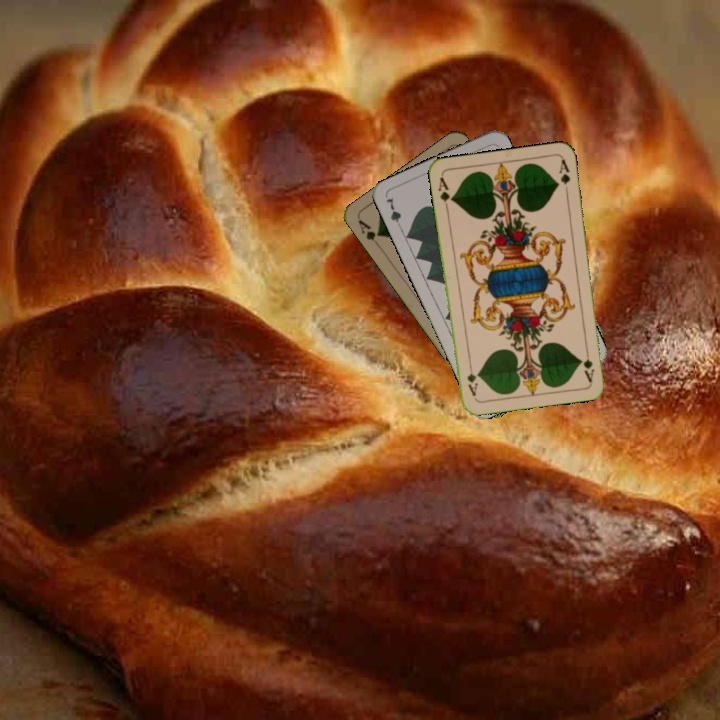G7: (382, 193, 405, 233)
GA: (434, 173, 455, 213), (354, 216, 384, 243), (579, 343, 597, 384)
